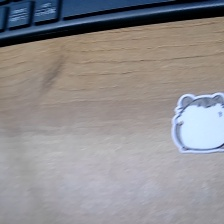mouse: (169, 85, 224, 154)
